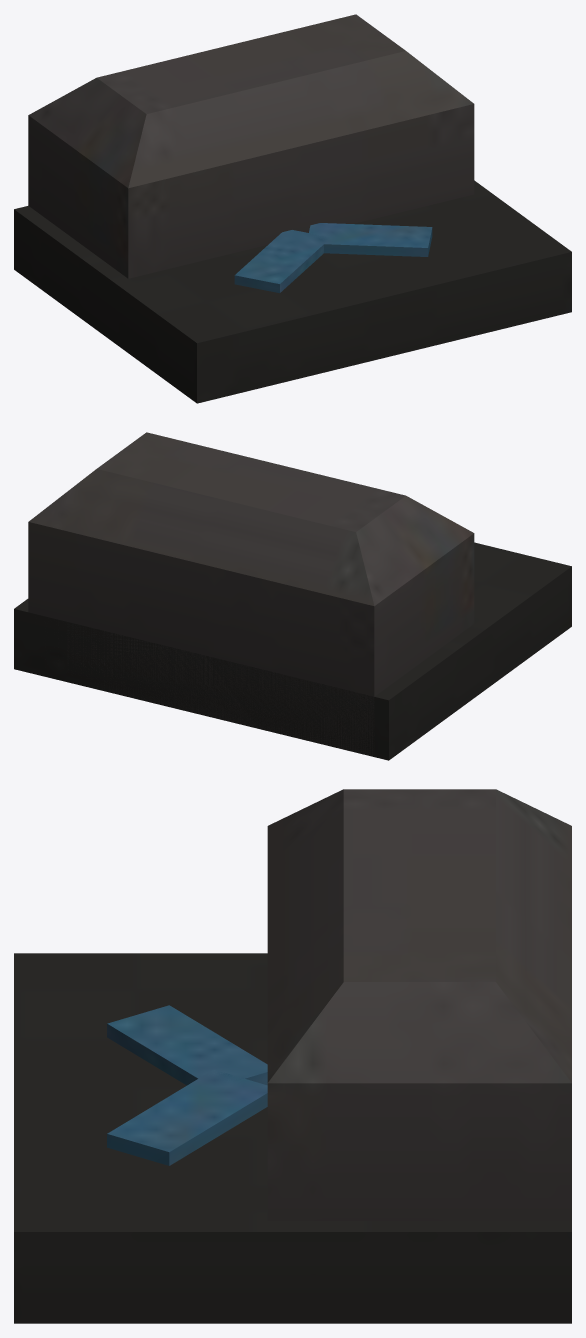
The model's file is express-underground-belt.glb.
3 renders of one model, top to bottom at view 1: azimuth 30°, elevation 25°; view 2: azimuth 150°, elevation 25°; view 3: azimuth 270°, elevation 25°, orthographic. The views are drawn at different scales.
Parts seen in each view (by area): view 1: express-underground-belt; view 2: express-underground-belt; view 3: express-underground-belt.
Boxes of the visible parts, box(x1,y1,x2,y2) form: express-underground-belt: box(14, 14, 571, 403); express-underground-belt: box(14, 432, 571, 760); express-underground-belt: box(14, 789, 571, 1323).
Bounding box in the file's own units: 0.26 × 0.13 × 0.22.
1 material, 1 textured.
